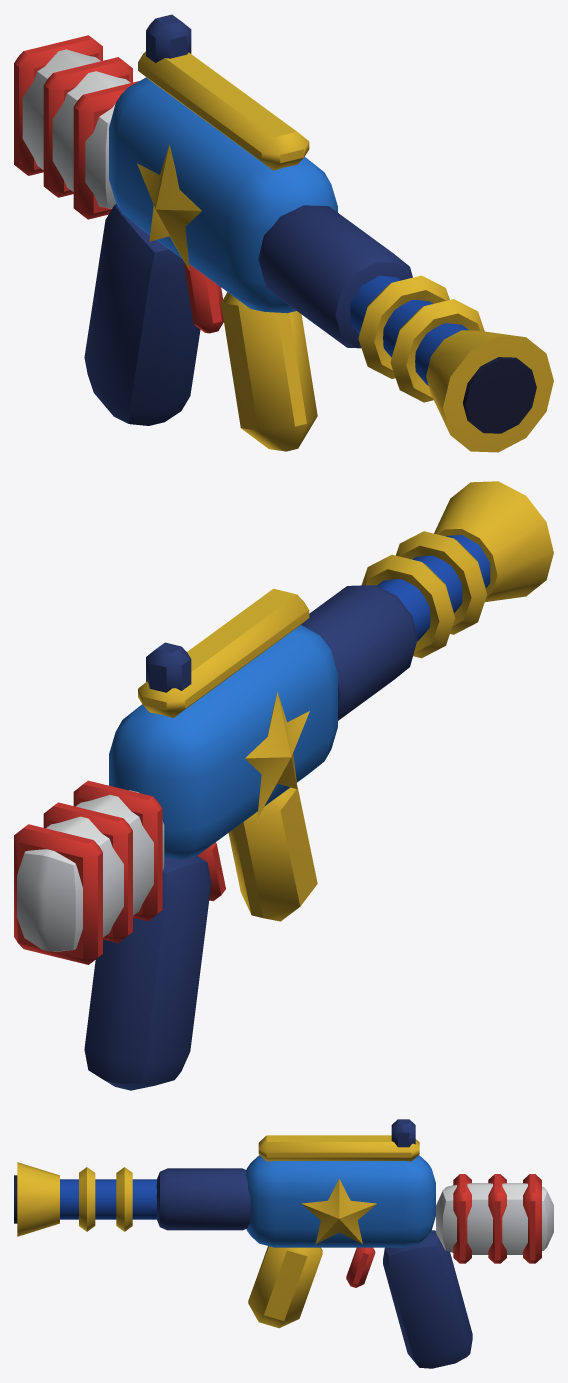
Rendered from w_j_burst.glb.
The picture shows the model from 3 angles, top to bottom: view 1: azimuth 30°, elevation 25°; view 2: azimuth 150°, elevation 25°; view 3: azimuth 270°, elevation 25°; orthographic projection. The views are drawn at different scales.
Visible parts, largest first — view 1: body; view 2: body; view 3: body.
Boxes of the visible parts, left/top/right/bottom form: body: left=14, top=14, right=553, bottom=452; body: left=14, top=481, right=553, bottom=1090; body: left=14, top=1119, right=553, bottom=1368.
Size of the model in its own units: 0.171 by 0.5014 by 1.01.
